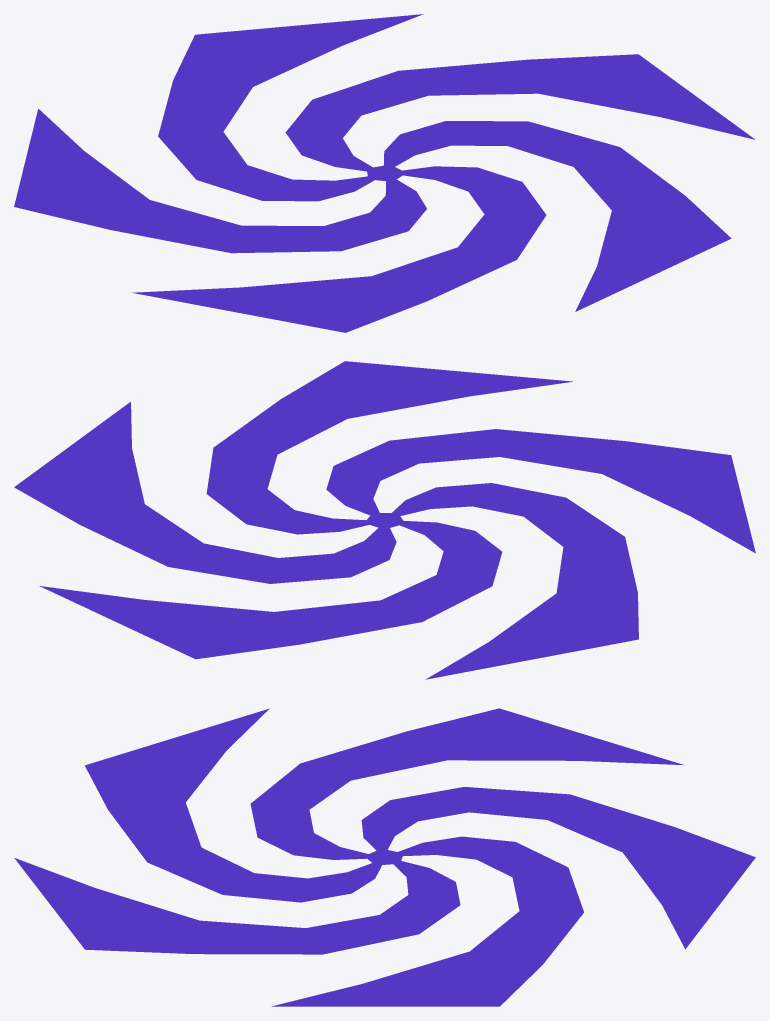
The picture shows the model from 3 angles, top to bottom: view 1: azimuth 30°, elevation 25°; view 2: azimuth 150°, elevation 25°; view 3: azimuth 270°, elevation 25°; orthographic projection. The views are drawn at different scales.
Visible parts, largest first — view 1: Cylinder.008; view 2: Cylinder.008; view 3: Cylinder.008.
Part boxes in pixels (<box>): Cylinder.008: <box>14,14,755,332</box>; Cylinder.008: <box>14,361,755,679</box>; Cylinder.008: <box>14,708,755,1006</box>.
Size of the model in its own units: 9.83 by 3.37e-06 by 10.34.
